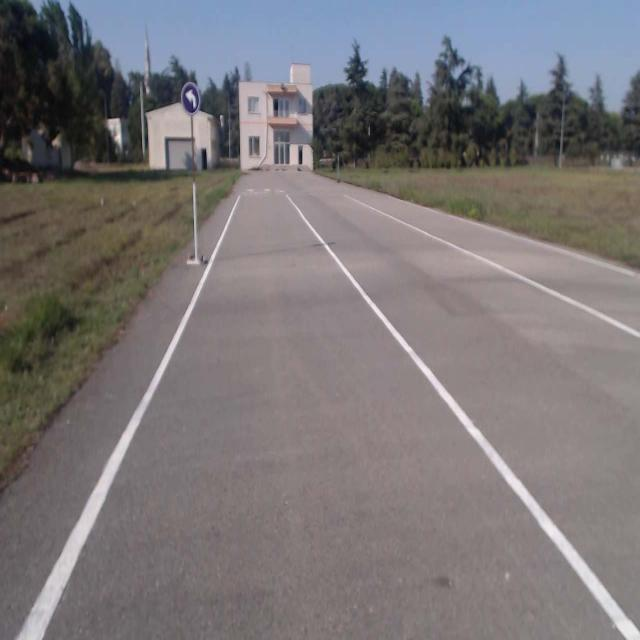sol: (181, 82, 199, 114)
